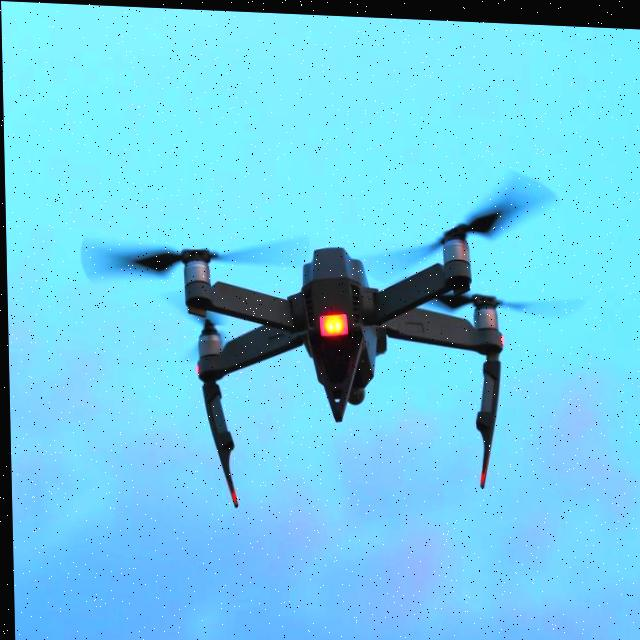drone: (120, 141, 559, 535)
